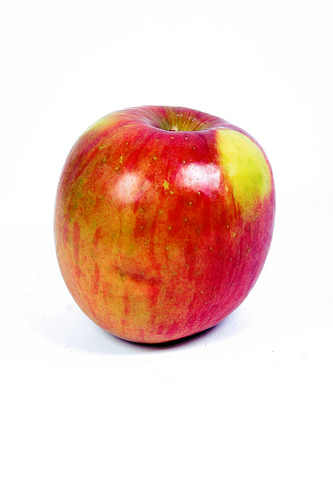apple: (53, 102, 275, 347)
